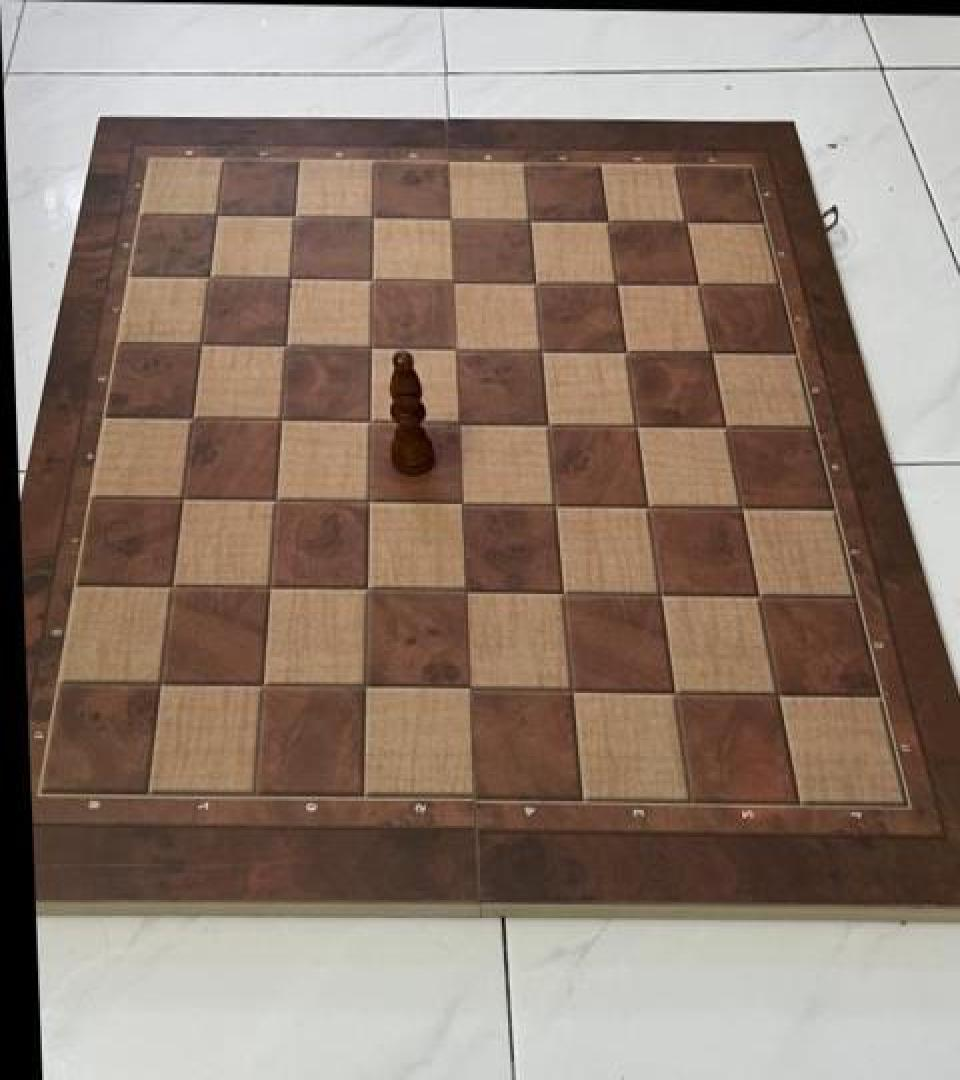xcorner: (433, 199, 469, 240), (511, 200, 547, 241), (590, 201, 626, 242), (517, 262, 553, 303), (598, 263, 634, 304), (680, 264, 716, 305), (183, 326, 219, 367), (268, 327, 304, 368), (175, 399, 211, 440), (707, 406, 743, 447), (165, 480, 201, 521), (723, 487, 759, 528), (155, 568, 191, 609), (253, 569, 289, 610), (350, 570, 386, 611), (246, 667, 282, 708), (349, 668, 385, 709), (452, 669, 488, 710), (198, 196, 234, 236), (277, 197, 313, 237), (355, 198, 391, 238), (668, 203, 704, 243), (191, 259, 227, 299), (273, 259, 309, 299), (354, 260, 390, 300), (436, 261, 472, 301), (353, 329, 389, 369), (438, 330, 474, 370), (523, 331, 559, 371), (608, 332, 644, 372), (693, 333, 729, 373), (264, 401, 300, 441), (352, 402, 388, 442), (441, 403, 477, 443), (530, 404, 566, 444), (619, 405, 655, 445), (258, 482, 294, 522), (351, 483, 387, 523), (444, 484, 480, 524), (537, 485, 573, 525), (630, 486, 666, 526), (448, 572, 484, 612), (545, 574, 581, 614), (643, 575, 679, 615), (740, 576, 776, 616), (144, 666, 180, 706), (554, 672, 590, 712), (657, 673, 693, 713), (759, 674, 795, 714)
